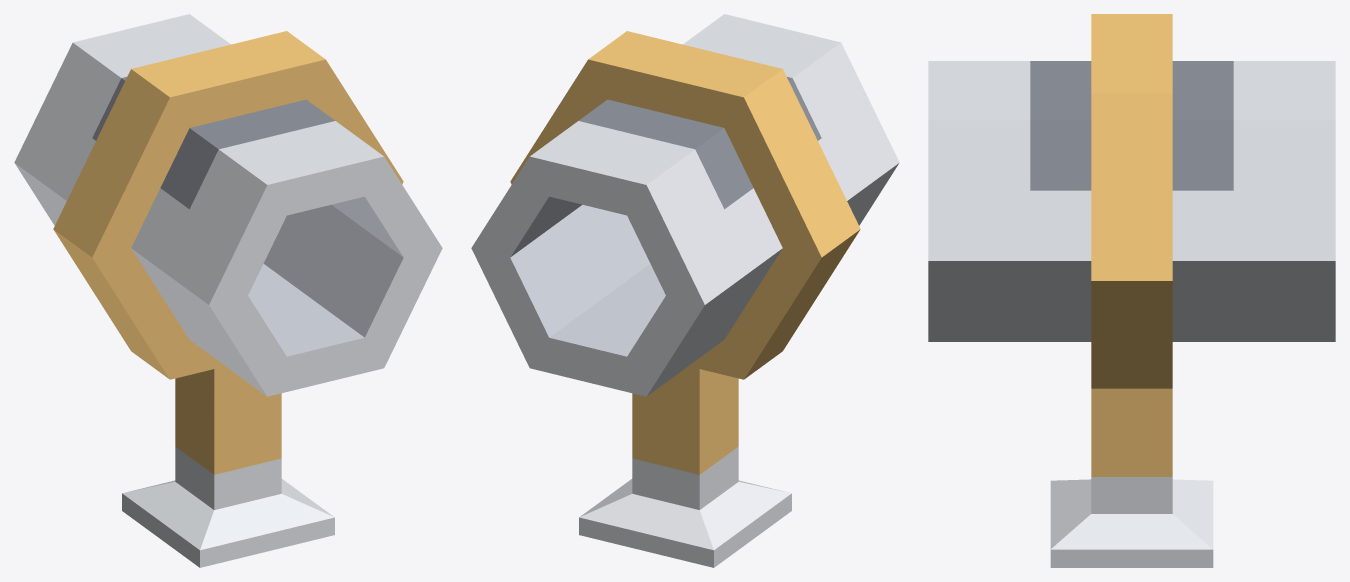
File: pipe_ringHigh.glb
3 views of the same model, side by side, from view 1: azimuth 30°, elevation 25°; view 2: azimuth 150°, elevation 25°; view 3: azimuth 270°, elevation 25° (orthographic). The views are drawn at different scales.
Visible parts, largest first — view 1: pipe_ringHigh; view 2: pipe_ringHigh; view 3: pipe_ringHigh.
Part boxes in pixels (box(x1,y1,x2,y2)): pipe_ringHigh: box(14, 14, 442, 567); pipe_ringHigh: box(471, 14, 899, 567); pipe_ringHigh: box(928, 14, 1335, 567).
Size of the model in its own units: 0.9238 by 1.3 by 1.
Materials: 1 (1 with a texture image).
